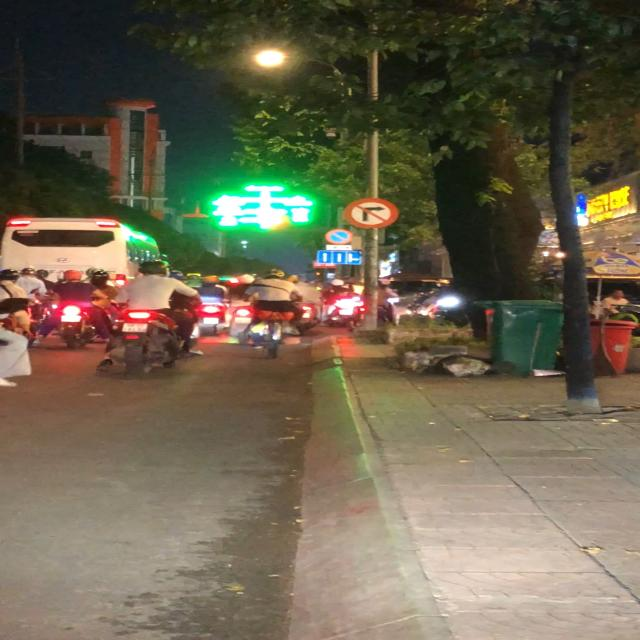Bien bao cam re phai: (343, 195, 400, 230)
